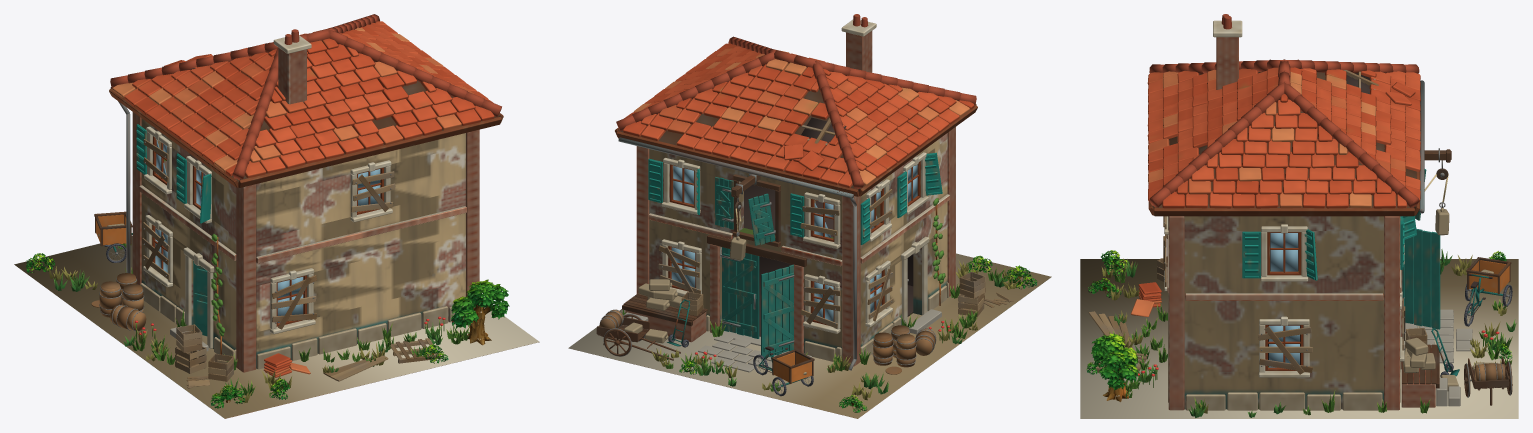
Rendered from Lot_Armazem.fbx.
The picture shows the model from 3 angles, left to right: view 1: azimuth 30°, elevation 25°; view 2: azimuth 150°, elevation 25°; view 3: azimuth 270°, elevation 25°; orthographic projection. The views are drawn at different scales.
Parts seen in each view (by area): view 1: ARM_house, ARM_roof, ARM_pad, ARM_junk, ARM_green; view 2: ARM_house, ARM_roof, ARM_pad, ARM_junk, ARM_green; view 3: ARM_house, ARM_roof, ARM_pad, ARM_junk, ARM_green.
Part boxes in pixels (<box>): ARM_house: <box>118,101,479,372</box>; ARM_roof: <box>109,14,503,187</box>; ARM_pad: <box>14,235,539,418</box>; ARM_junk: <box>91,211,440,388</box>; ARM_green: <box>26,243,509,408</box>; ARM_house: <box>618,127,955,370</box>; ARM_roof: <box>615,14,977,196</box>; ARM_pad: <box>568,253,1051,418</box>; ARM_junk: <box>596,271,1013,396</box>; ARM_green: <box>622,255,1037,412</box>; ARM_house: <box>1163,80,1451,410</box>; ARM_roof: <box>1147,14,1420,216</box>; ARM_pad: <box>1080,259,1518,418</box>; ARM_junk: <box>1088,256,1512,407</box>; ARM_green: <box>1086,249,1516,417</box>.
Size of the model in its own units: 10.09 by 9.16 by 11.6.
1 material, 1 textured.
